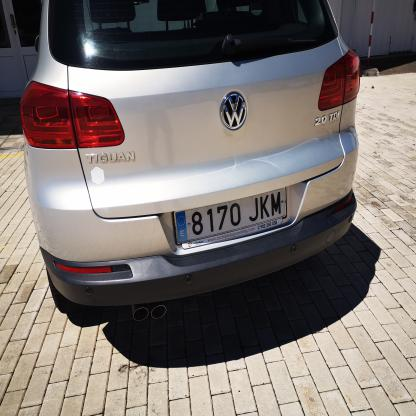patente: (175, 189, 287, 244)
